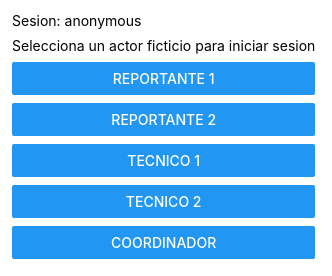
it: la pantalla inicia sesión como Tecnico 1 y muestra su operación
The width and height of the screenshot is (332, 276).
Expected: the text "Tecnico 1" is shown, [127, 152, 200, 169]
Click the button "Tecnico 1". click: (164, 160)
box: [12, 144, 315, 177]
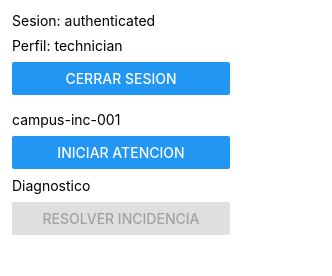
Expected: the text "Resolver incidencia" is shown, [42, 210, 200, 227]
Click the button "Cerrar sesion". click: (121, 78)
box: [12, 62, 230, 95]
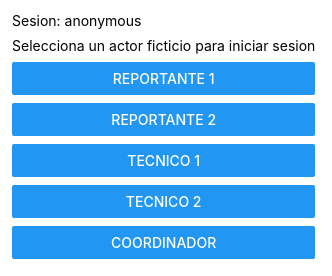
Expected: the text "Selecciona un actor ficticio para iniciar sesion" is shown, [12, 37, 315, 54]
